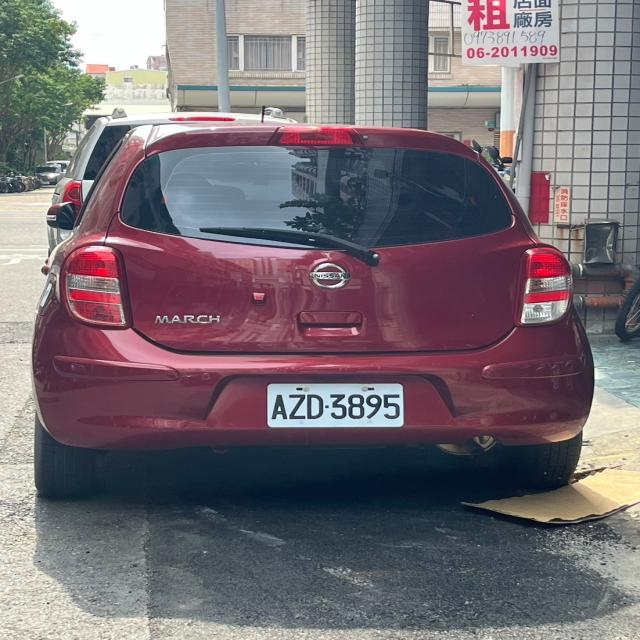license-plate: (264, 386, 410, 426)
